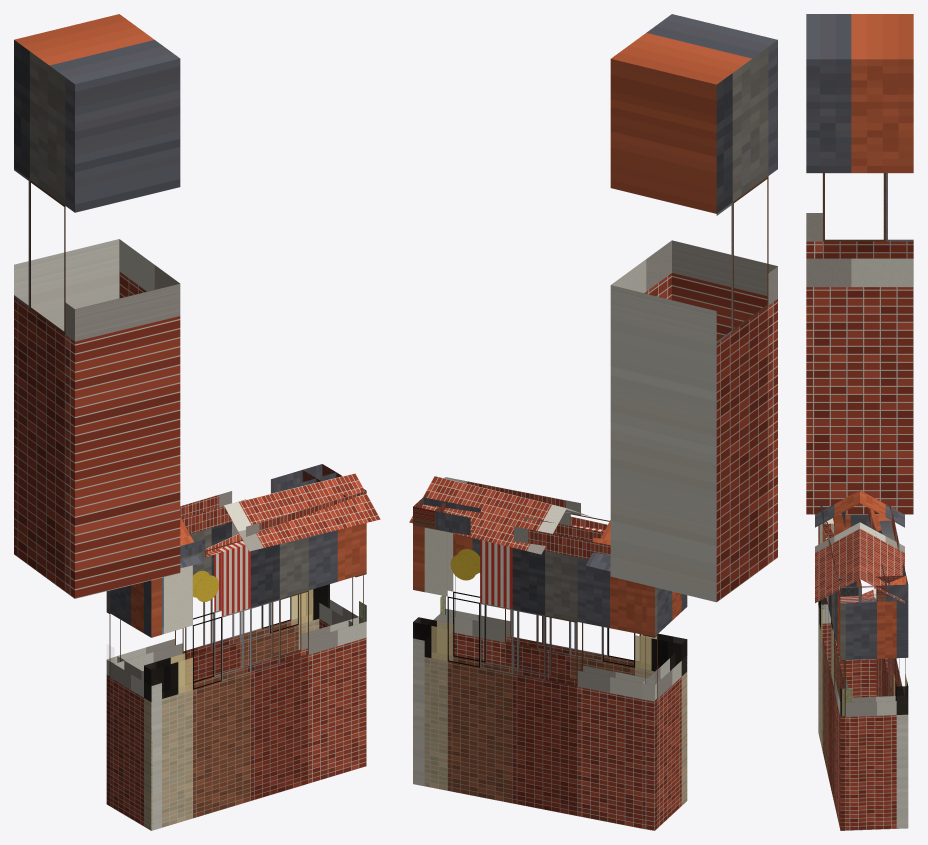
3 views of the same model, side by side, from view 1: azimuth 30°, elevation 25°; view 2: azimuth 150°, elevation 25°; view 3: azimuth 270°, elevation 25° (orthographic). The views are drawn at different scales.
Parts seen in each view (by area): view 1: 238563112__chimney_0_xb, 238563112__wall_0_xb, 238563112__wall_4_xb, 238563112__wall_2_xb, 238563112_roof_-1_xb, 238563112__cornice_2, 238563112__wall_0_xf, 238563112__cornice_0, 238563112__wall_2_xf, 238563112__wall_1_xb; view 2: 238563112__chimney_0_xb, 238563112__wall_2_xb, 238563112__wall_0_xb, 238563112_roof_1_xb, 238563112__wall_4_xb, 238563112__cornice_2, 238563112__wall_1_xb, 238563112__wall_3_xb, 238563112__wall_0_xf, 238563112__wall_2_xf, 238563112__cornice_0; view 3: 238563112__chimney_0_xb, 238563112__wall_1_xb, 238563112__wall_0_xb, 238563112__wall_2_xb, 238563112_roof_-1_xb, 238563112_roof_1_xb, 238563112__wall_4_xb, 238563112__wall_2_xf, 238563112__cornice_1, 238563112__cornice_2, 238563112__cornice_0, 238563112__wall_0_xf.
Part boxes in pixels (left/top/right/bottom): 238563112__chimney_0_xb: left=14, top=14, right=180, bottom=598; 238563112__wall_0_xb: left=144, top=523, right=366, bottom=830; 238563112__wall_4_xb: left=106, top=578, right=161, bottom=830; 238563112__wall_2_xb: left=117, top=522, right=329, bottom=682; 238563112_roof_-1_xb: left=180, top=473, right=380, bottom=568; 238563112__cornice_2: left=180, top=464, right=336, bottom=533; 238563112__wall_0_xf: left=144, top=577, right=365, bottom=700; 238563112__cornice_0: left=180, top=489, right=366, bottom=560; 238563112__wall_2_xf: left=291, top=584, right=329, bottom=623; 238563112__wall_1_xb: left=312, top=573, right=366, bottom=628; 238563112__chimney_0_xb: left=610, top=14, right=777, bottom=602; 238563112__wall_2_xb: left=413, top=527, right=647, bottom=828; 238563112__wall_0_xb: left=440, top=525, right=687, bottom=805; 238563112_roof_1_xb: left=409, top=476, right=610, bottom=571; 238563112__wall_4_xb: left=643, top=587, right=687, bottom=830; 238563112__cornice_2: left=423, top=497, right=610, bottom=559; 238563112__wall_1_xb: left=413, top=525, right=455, bottom=786; 238563112__wall_3_xb: left=642, top=584, right=659, bottom=830; 238563112__wall_0_xf: left=440, top=594, right=686, bottom=675; 238563112__wall_2_xf: left=413, top=617, right=452, bottom=660; 238563112__cornice_0: left=444, top=477, right=609, bottom=529; 238563112__chimney_0_xb: left=806, top=14, right=913, bottom=514; 238563112__wall_1_xb: left=839, top=597, right=907, bottom=830; 238563112__wall_0_xb: left=818, top=518, right=851, bottom=829; 238563112__wall_2_xb: left=876, top=514, right=908, bottom=828; 238563112_roof_-1_xb: left=815, top=490, right=859, bottom=603; 238563112_roof_1_xb: left=860, top=490, right=904, bottom=603; 238563112__wall_4_xb: left=818, top=514, right=876, bottom=735; 238563112__wall_2_xf: left=894, top=601, right=907, bottom=714; 238563112__cornice_1: left=838, top=575, right=906, bottom=603; 238563112__cornice_2: left=868, top=500, right=908, bottom=601; 238563112__cornice_0: left=820, top=499, right=861, bottom=602; 238563112__wall_0_xf: left=818, top=598, right=851, bottom=715.
Bounding box in the file's own units: 0.4426 × 1.05 × 0.15.
1 material, 1 textured.
